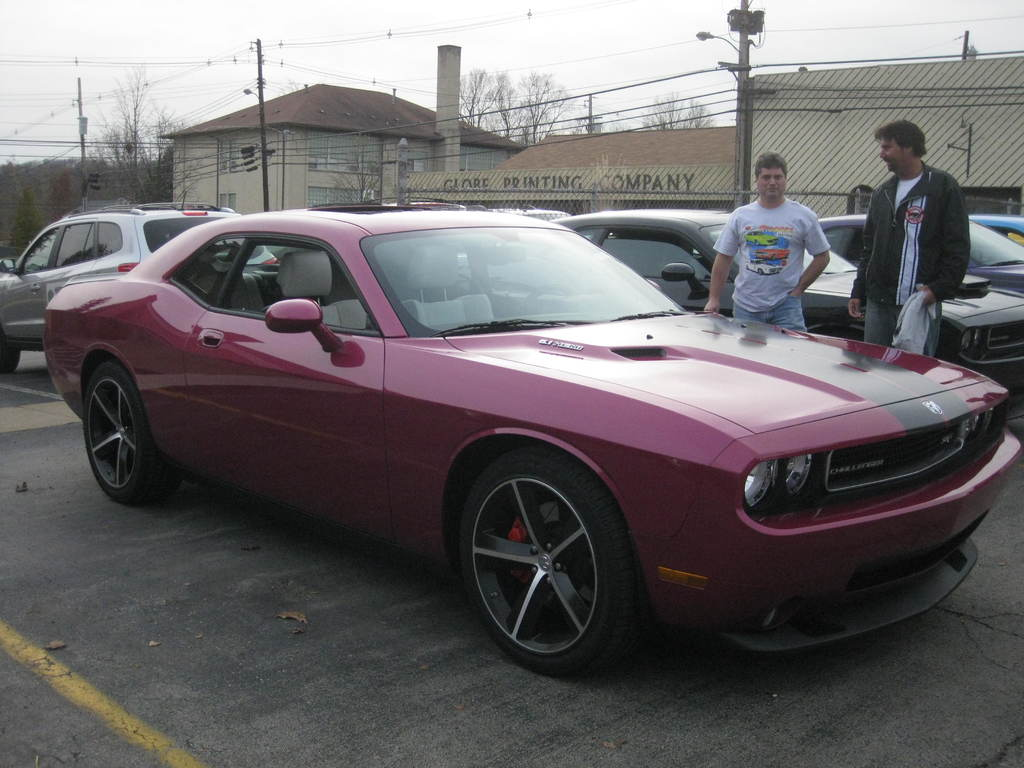Car: (35, 219, 1006, 672), (554, 204, 1023, 383), (0, 199, 275, 373), (818, 211, 1023, 296), (967, 213, 1023, 245), (458, 203, 573, 216)
